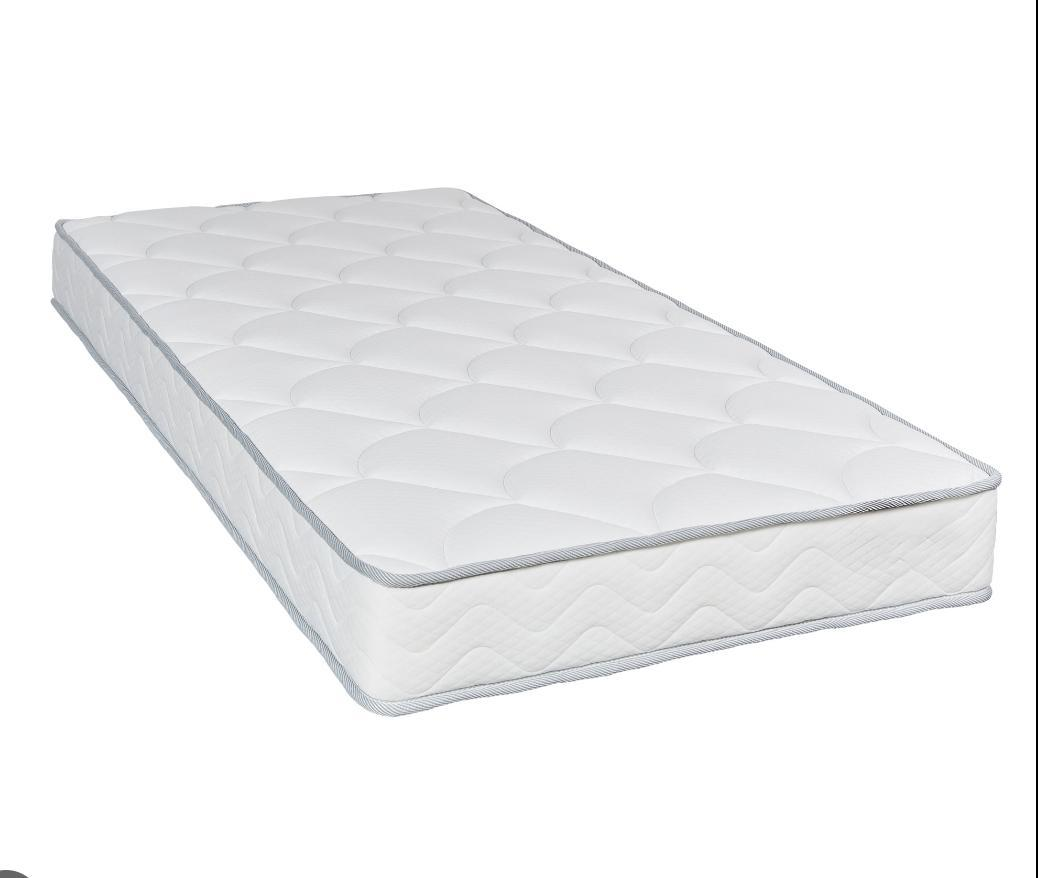Bed-Mattress: (44, 177, 1009, 726)
